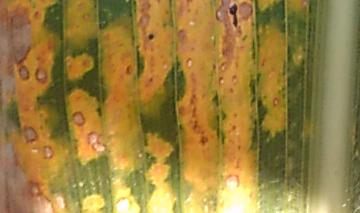tarspot: (226, 1, 240, 30), (144, 30, 157, 42)
